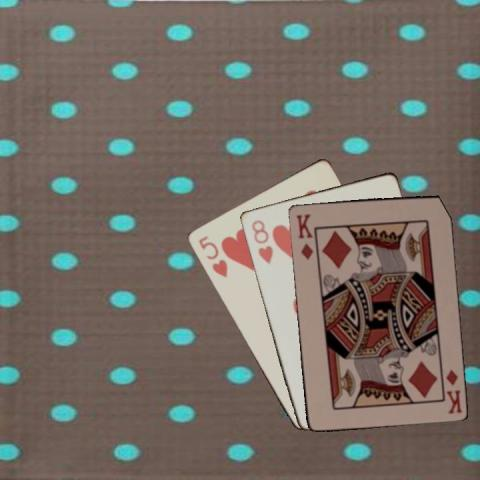5h: (194, 233, 228, 280)
8h: (248, 217, 274, 265)
Kd: (293, 211, 314, 262), (442, 366, 463, 415)
